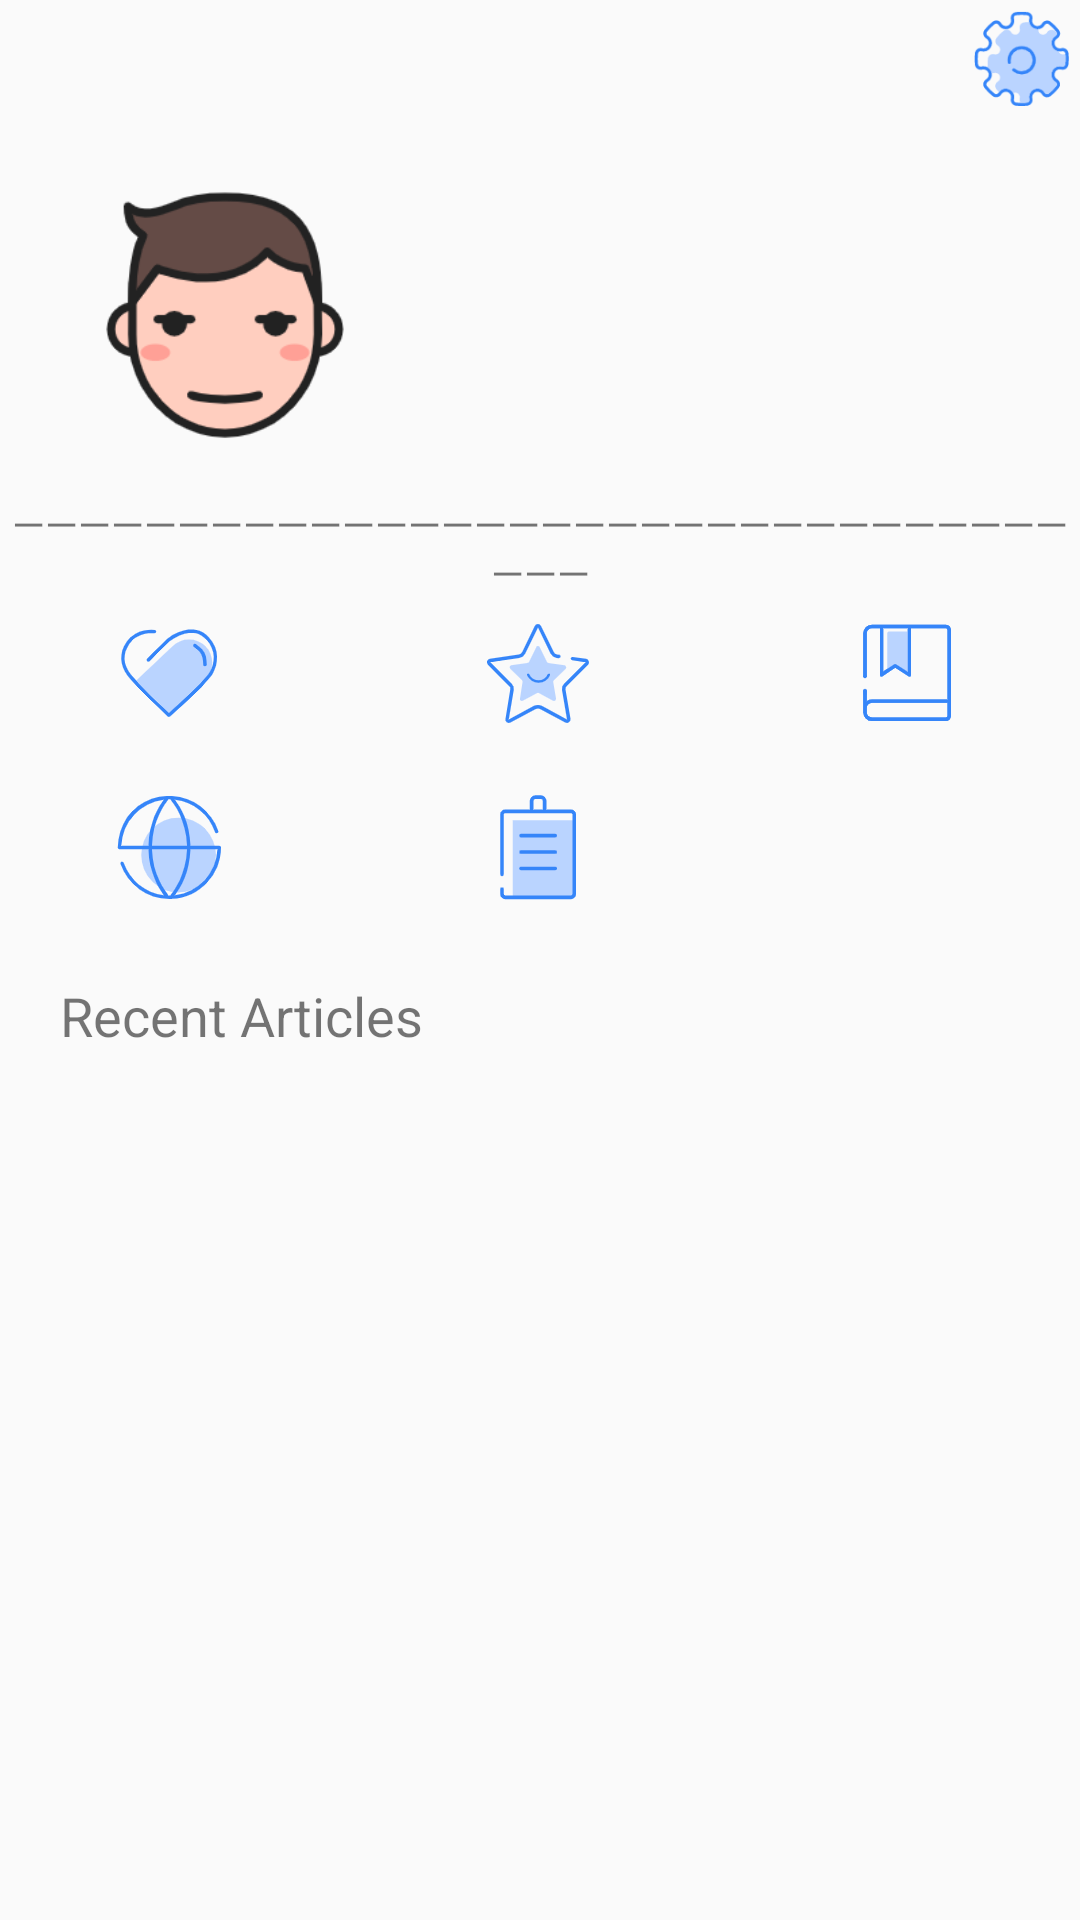

Icon click points for this 1080w x 1920h phone screenshot, format point (x, y):
setting: point (1021, 59)
